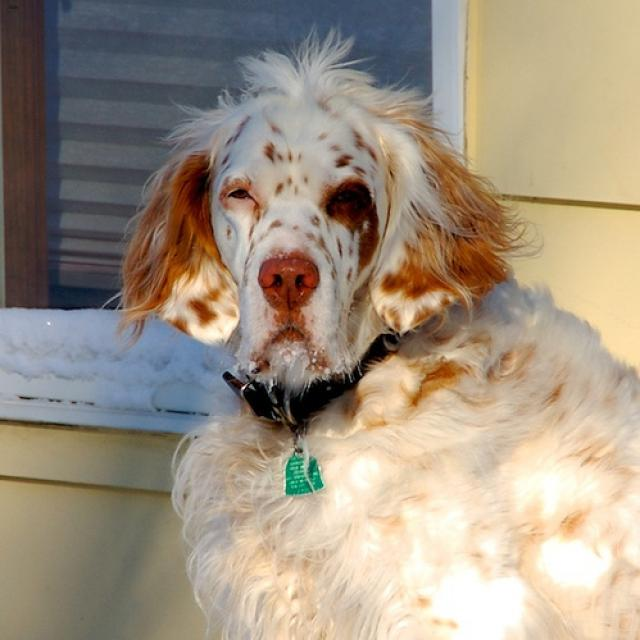dog-english_setter: (90, 17, 637, 637)
